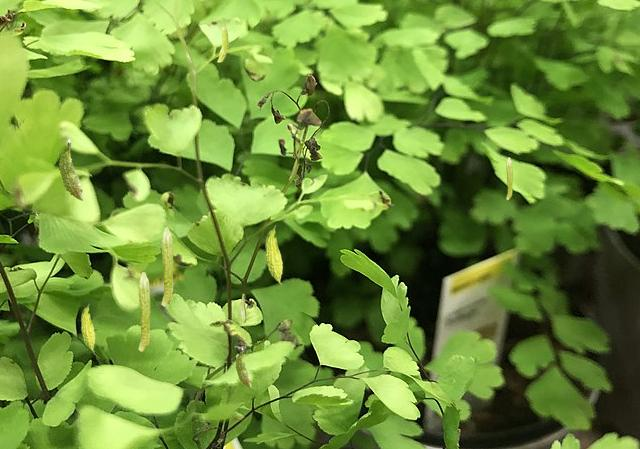ampalaya: (58, 138, 83, 201), (265, 224, 283, 285), (138, 271, 150, 351), (161, 226, 173, 306), (234, 347, 252, 388), (80, 303, 95, 352), (216, 23, 228, 62), (506, 157, 512, 200), (240, 293, 246, 323)
